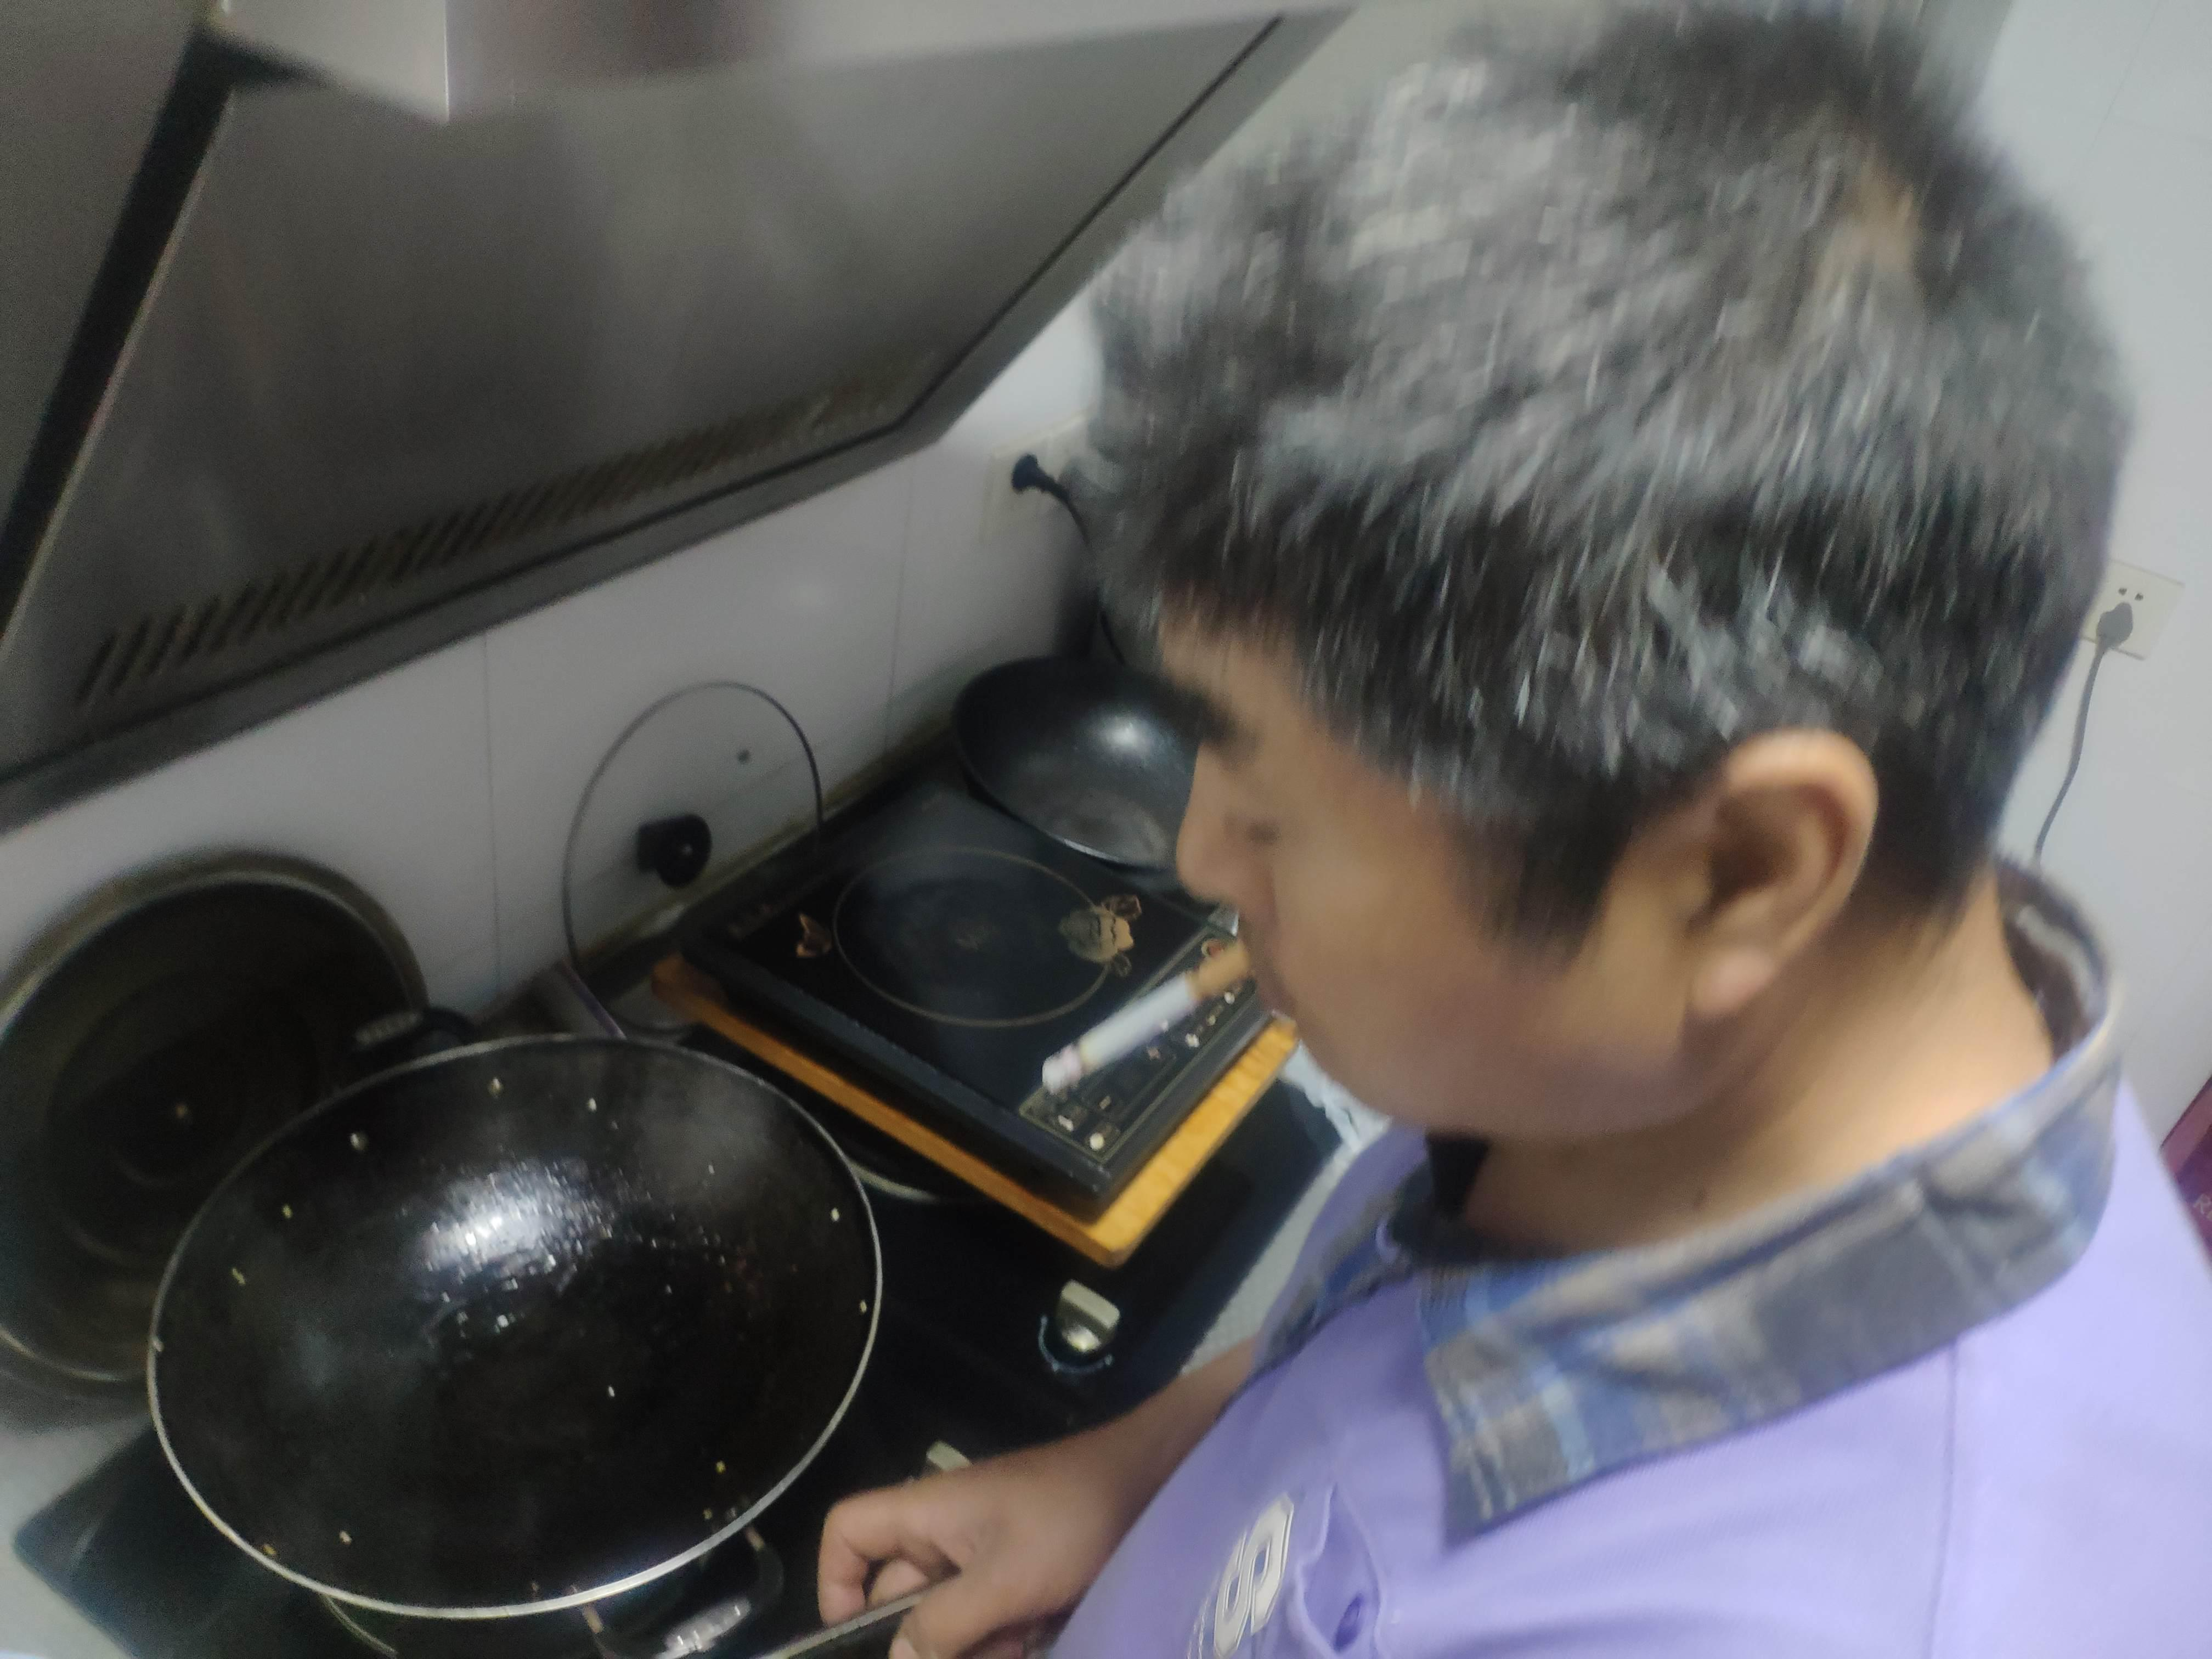smoke: (1042, 939, 1258, 1098)
